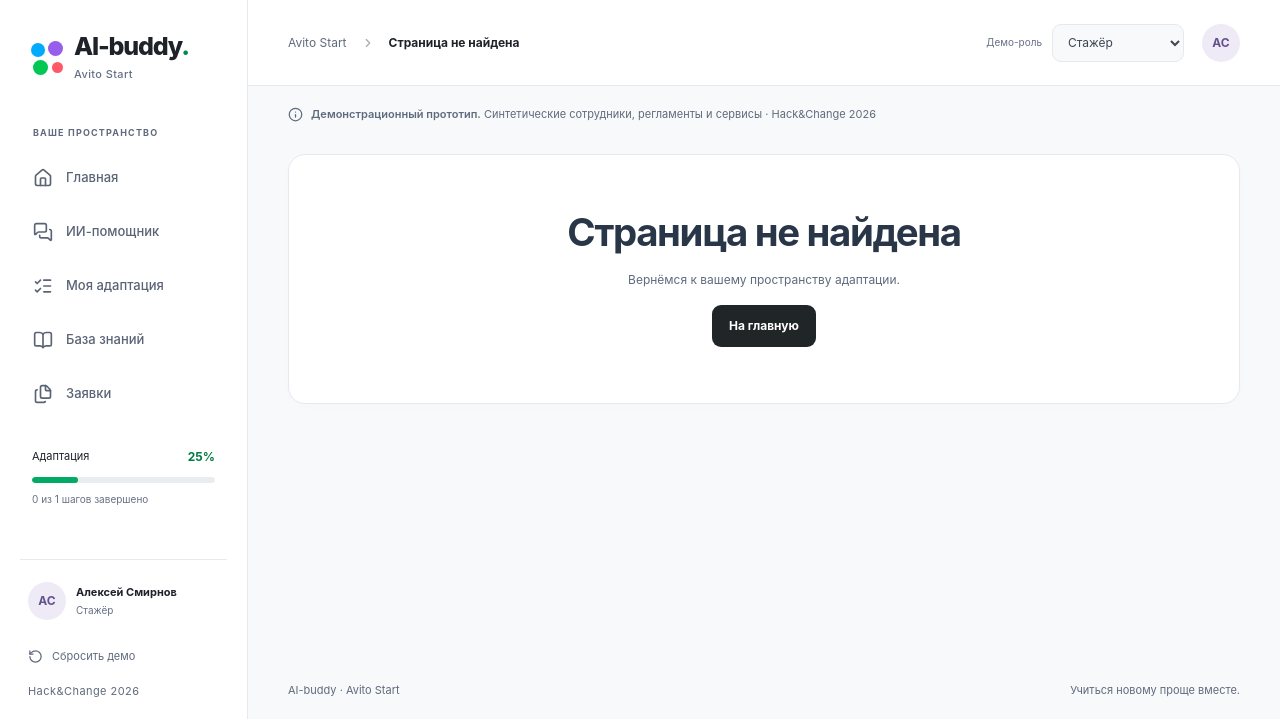
it: Application routes and backend integration › offers a working return link on an unknown URL
Step 1. Click the link "На главную" → [764, 326], box [712,305,816,347]
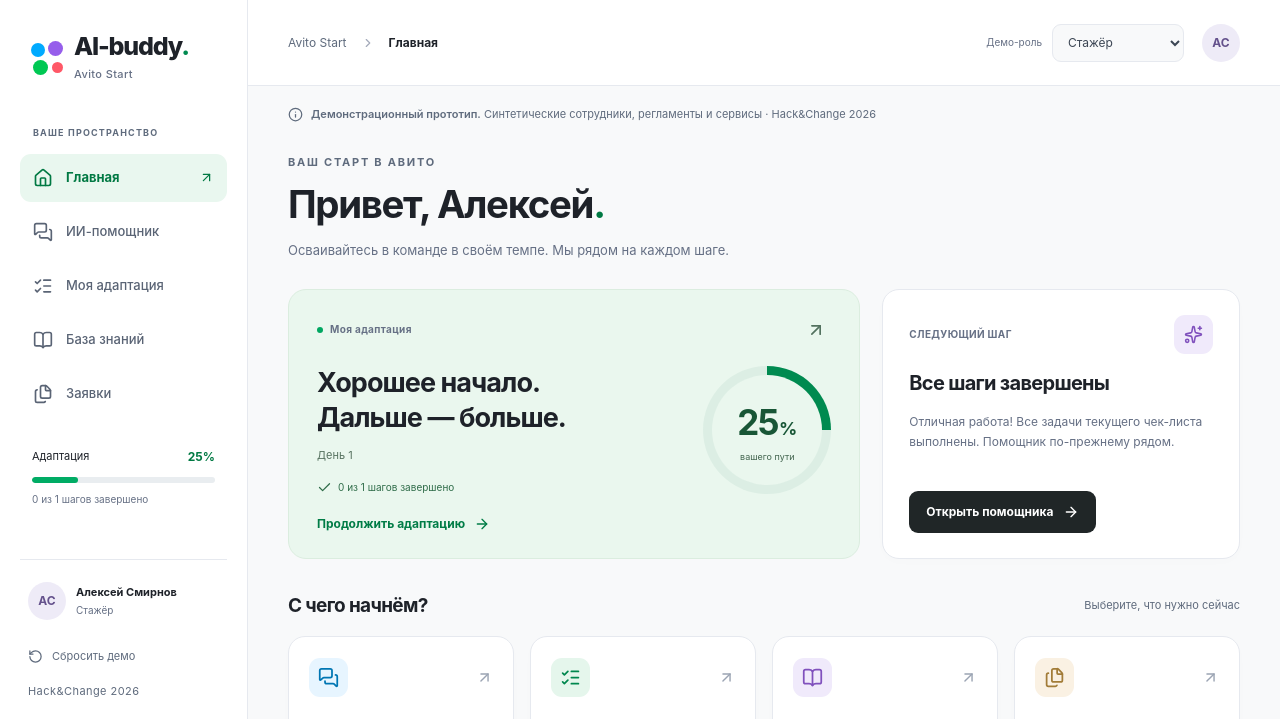
Expected: the heading "Привет, Алексей." is shown, [288,181,605,227]
